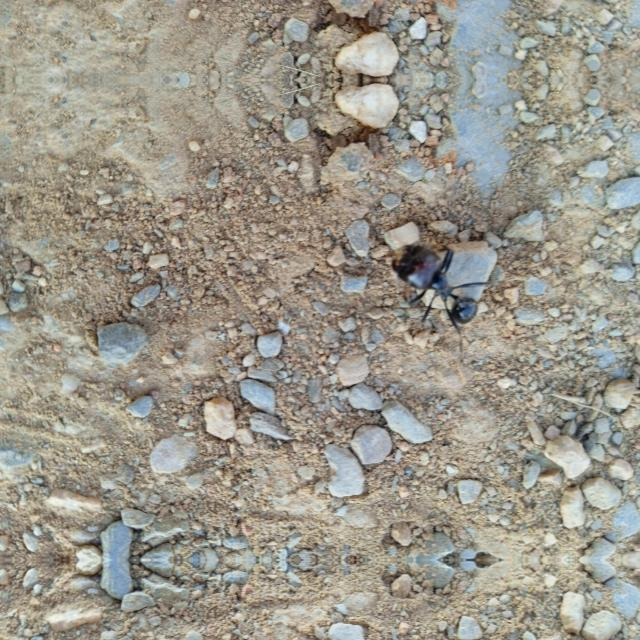Messor: (370, 235, 482, 347)
